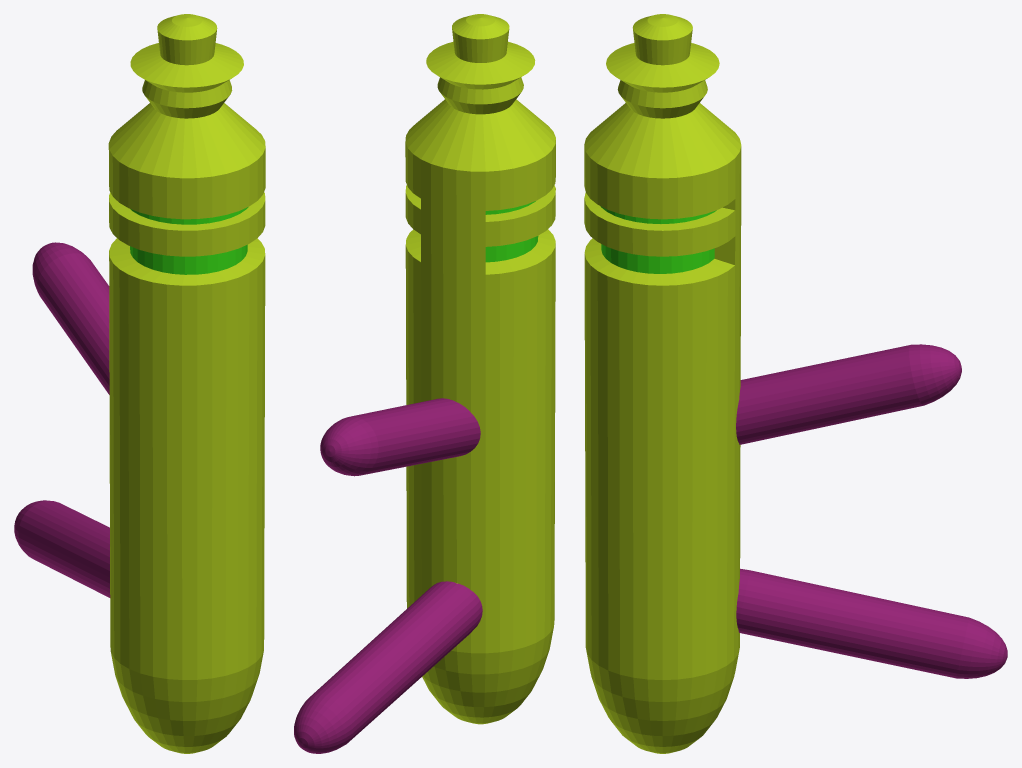
Rendered from Gun2.fbx.
The picture shows the model from 3 angles, left to right: view 1: azimuth 30°, elevation 25°; view 2: azimuth 150°, elevation 25°; view 3: azimuth 270°, elevation 25°; orthographic projection. The views are drawn at different scales.
Parts seen in each view (by area): view 1: Sphere; view 2: Sphere; view 3: Sphere.
Part boxes in pixels (bbox=[...]): Sphere: bbox=[14, 14, 265, 753]; Sphere: bbox=[294, 14, 555, 753]; Sphere: bbox=[584, 14, 1007, 753].
Size of the model in its own units: 112 by 576 by 302.
